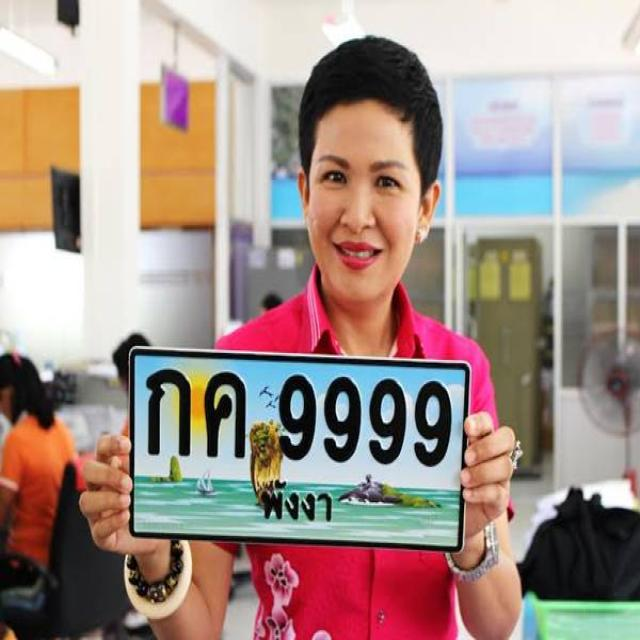PNA: (261, 477, 332, 525)
